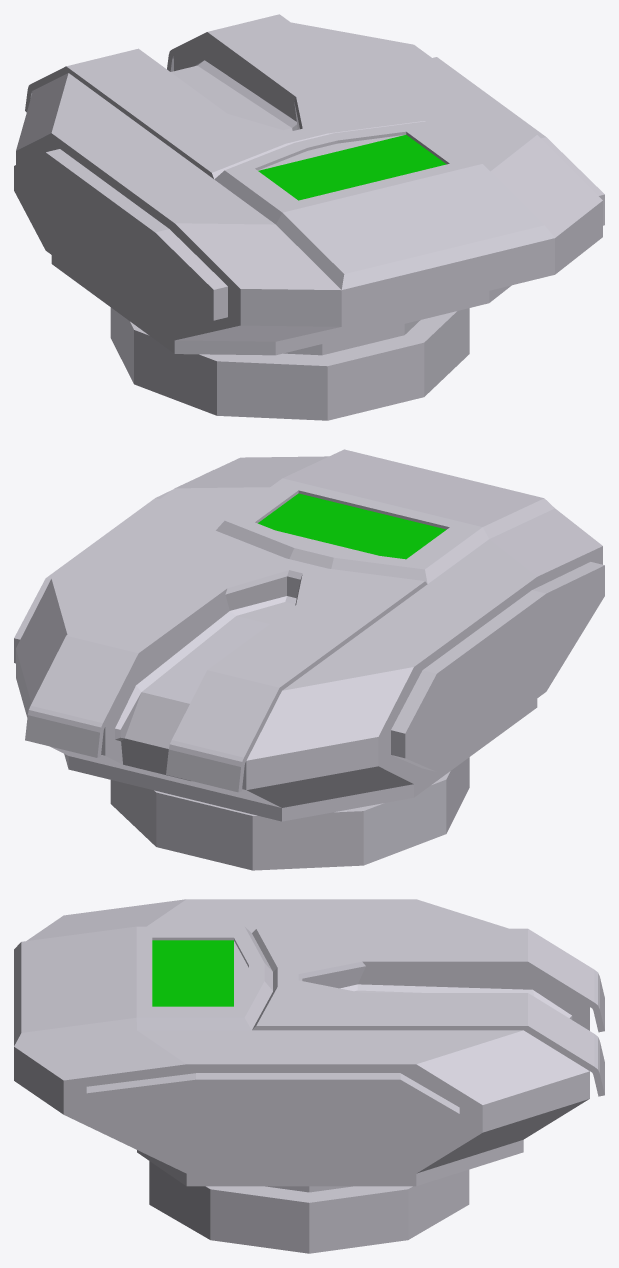
The model's file is hardpoint.dev.flush.fbx.
3 views of the same model, one above another, from view 1: azimuth 30°, elevation 25°; view 2: azimuth 150°, elevation 25°; view 3: azimuth 270°, elevation 25° (orthographic). The views are drawn at different scales.
Visible parts, largest first — view 1: hardpoint.dev.flush; view 2: hardpoint.dev.flush; view 3: hardpoint.dev.flush.
Boxes of the visible parts, box(x1,y1,x2,y2) form: hardpoint.dev.flush: box(14, 14, 604, 420); hardpoint.dev.flush: box(14, 449, 604, 870); hardpoint.dev.flush: box(14, 899, 604, 1253).
Size of the model in its own units: 1.37 by 0.7551 by 1.92.
